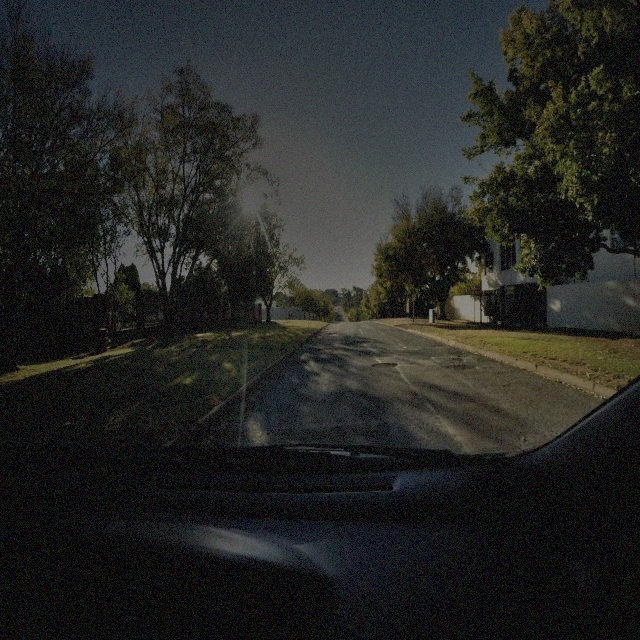pothole: (372, 360, 401, 370), (446, 364, 476, 372), (313, 356, 337, 366), (447, 350, 464, 357), (315, 346, 331, 352), (432, 343, 442, 348)
